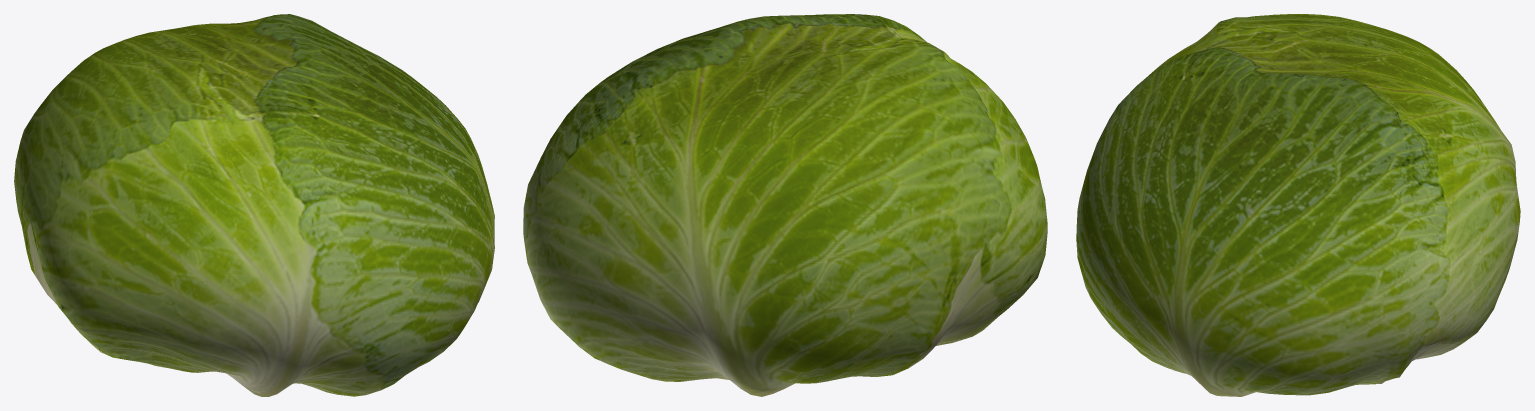
The model's file is GreenVegetableCabbage02.fbx.
The picture shows the model from 3 angles, left to right: view 1: azimuth 30°, elevation 25°; view 2: azimuth 150°, elevation 25°; view 3: azimuth 270°, elevation 25°; orthographic projection. The views are drawn at different scales.
Visible parts, largest first — view 1: Cabbage02; view 2: Cabbage02; view 3: Cabbage02.
Part boxes in pixels (x1,y1,x2,y2): Cabbage02: (14, 14, 494, 396); Cabbage02: (523, 14, 1047, 396); Cabbage02: (1076, 14, 1520, 396).
Bounding box in the file's own units: 0.226 × 0.2161 × 0.1583.
1 material, 1 textured.
